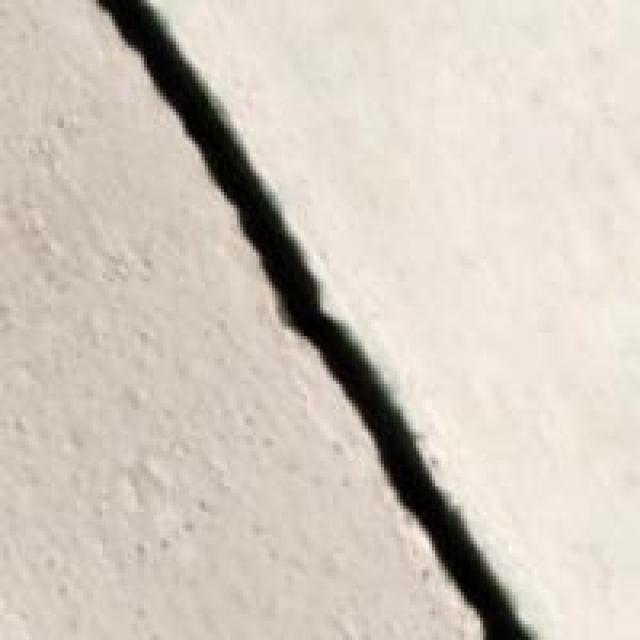crack: (88, 0, 548, 640)
